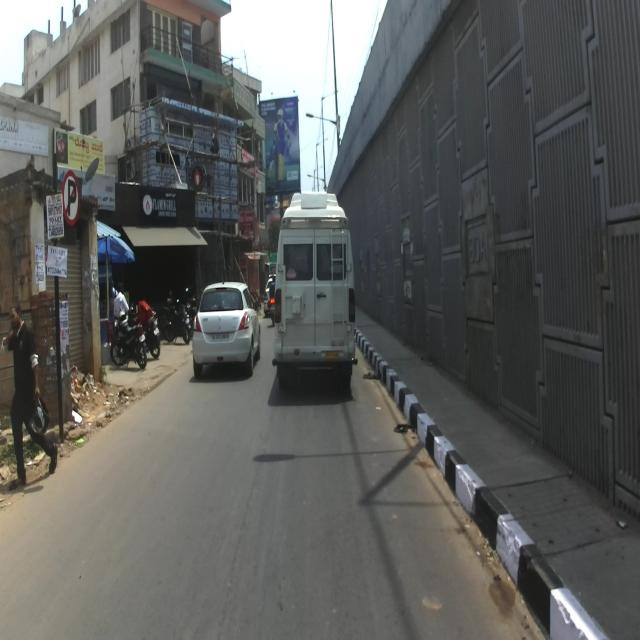car: (191, 272, 261, 379)
mini-bus: (270, 190, 360, 392)
motorcycle: (110, 300, 148, 370)
